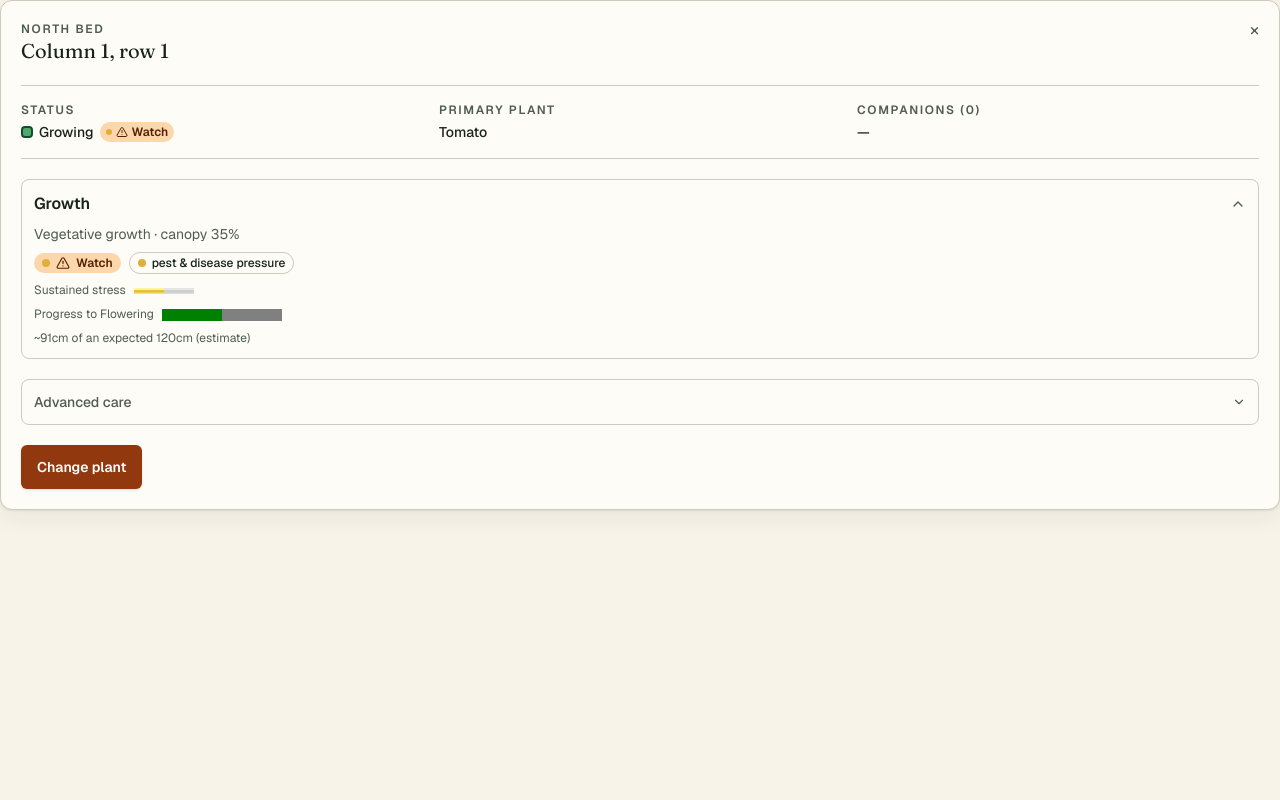
Scenario: CellPicker — soil card calcium regression › shows the calcium percentage even when nitrogen/phosphorus/potassium are fine
The image size is (1280, 800).
Care is demoted to a closed-by-default "Advanced care" disclosure.
Click the button "Advanced care": click(83, 402) [34,392,1246,412]
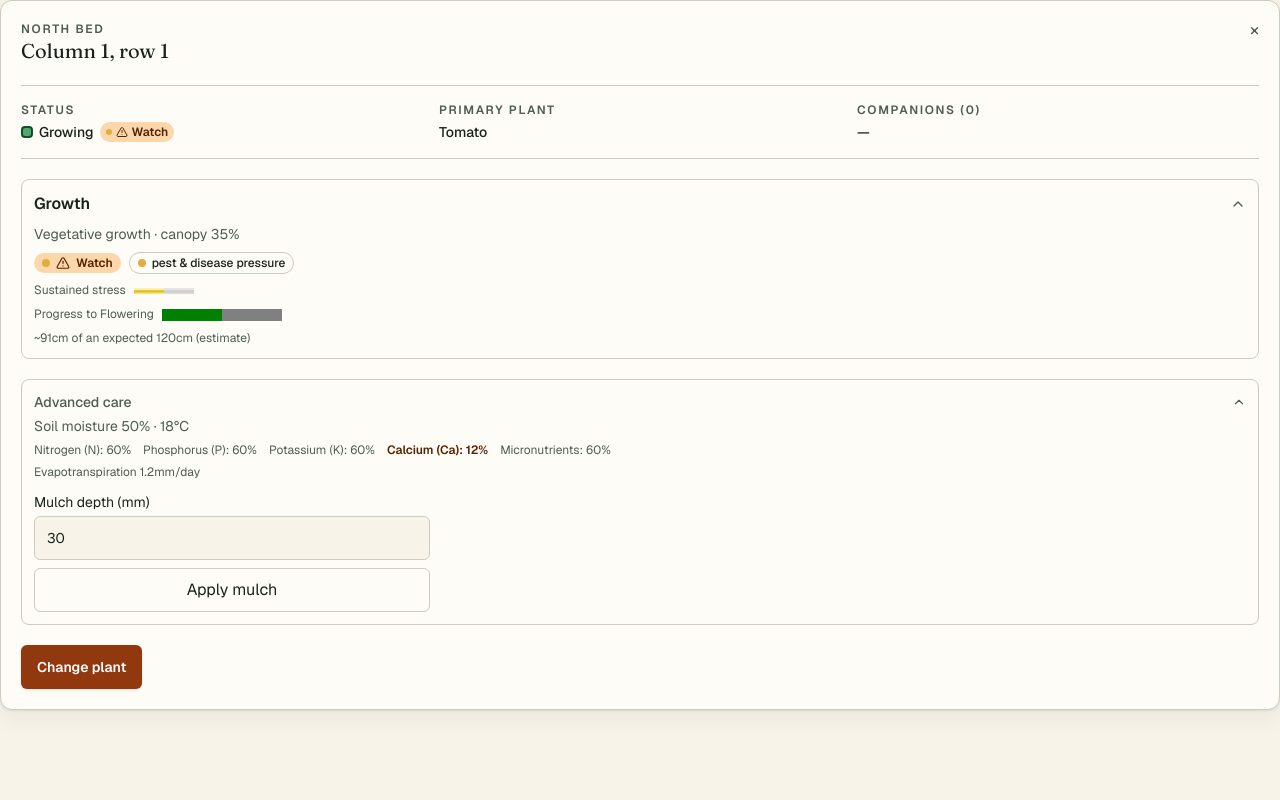
Check: the list item "Calcium (Ca): 12%" is shown, box [387,442,488,458]
